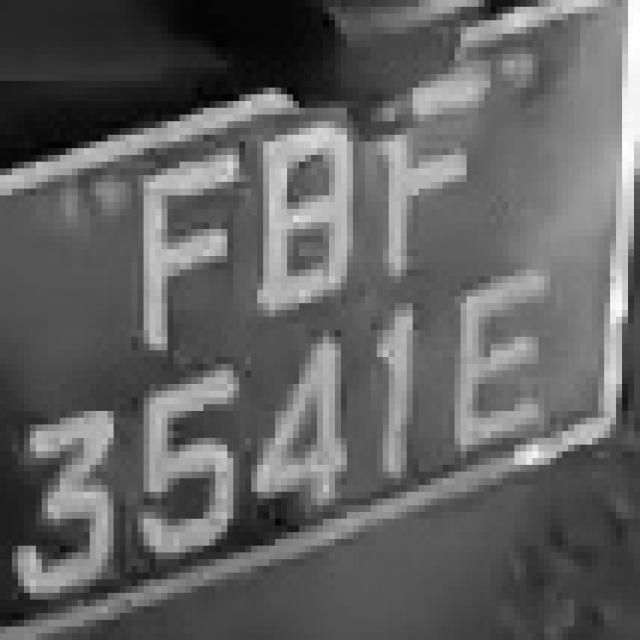1: (376, 262, 424, 498)
3: (0, 390, 119, 640)
4: (239, 324, 353, 526)
5: (138, 364, 263, 593)
B: (245, 94, 383, 310)
E: (443, 249, 562, 452)
F: (359, 81, 520, 296), (120, 155, 263, 357)
